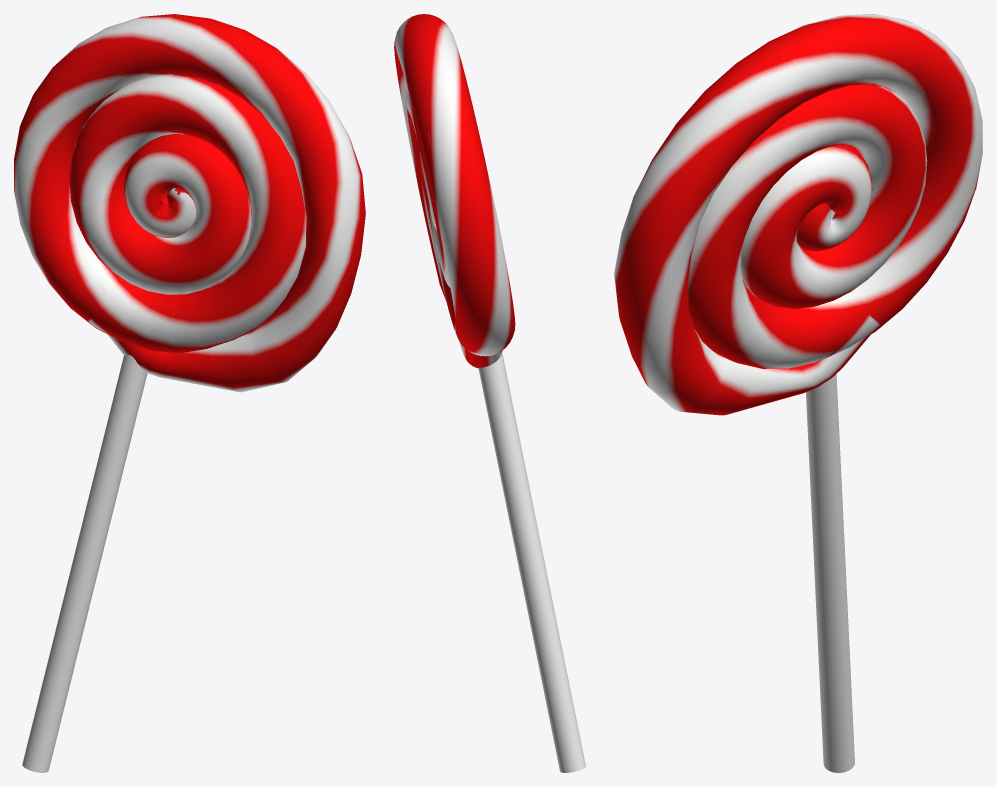
File: reallollipop.glb
3 renders of one model, left to right at view 1: azimuth 30°, elevation 25°; view 2: azimuth 150°, elevation 25°; view 3: azimuth 270°, elevation 25°, orthographic. The views are drawn at different scales.
Parts seen in each view (by area): view 1: Cylinder.012, Cylinder.001; view 2: Cylinder.012, Cylinder.001; view 3: Cylinder.012, Cylinder.001.
Boxes of the visible parts, x1=… form: Cylinder.012: x1=14, y1=14, x2=365, y2=392; Cylinder.001: x1=22, y1=355, x2=147, y2=772; Cylinder.012: x1=394, y1=14, x2=515, y2=368; Cylinder.001: x1=478, y1=352, x2=585, y2=772; Cylinder.012: x1=614, y1=14, x2=982, y2=415; Cylinder.001: x1=806, y1=374, x2=854, y2=772.
Size of the model in its own units: 0.0567 by 0.15 by 0.0604.
Materials: 2 (1 with a texture image).
